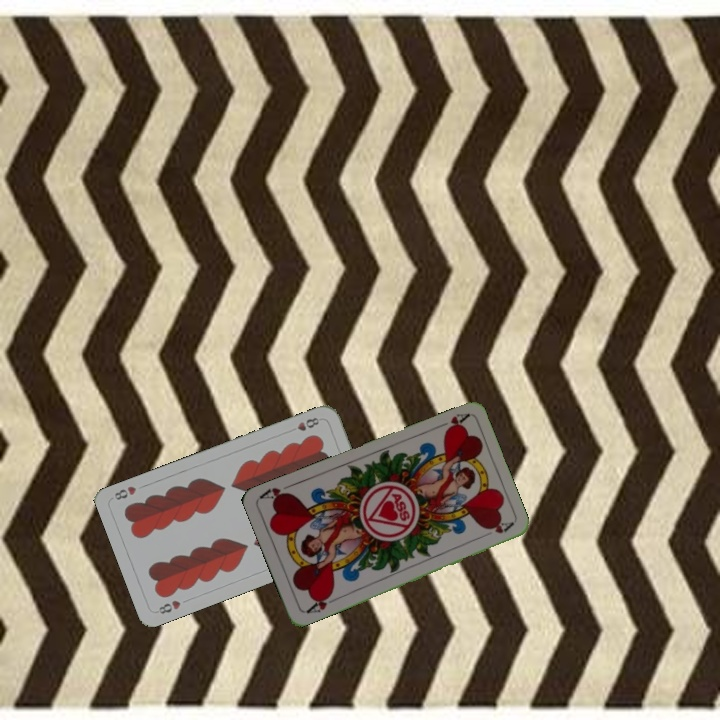H8: (285, 413, 322, 435), (152, 596, 183, 617)
HA: (431, 409, 471, 436), (302, 589, 340, 616)
